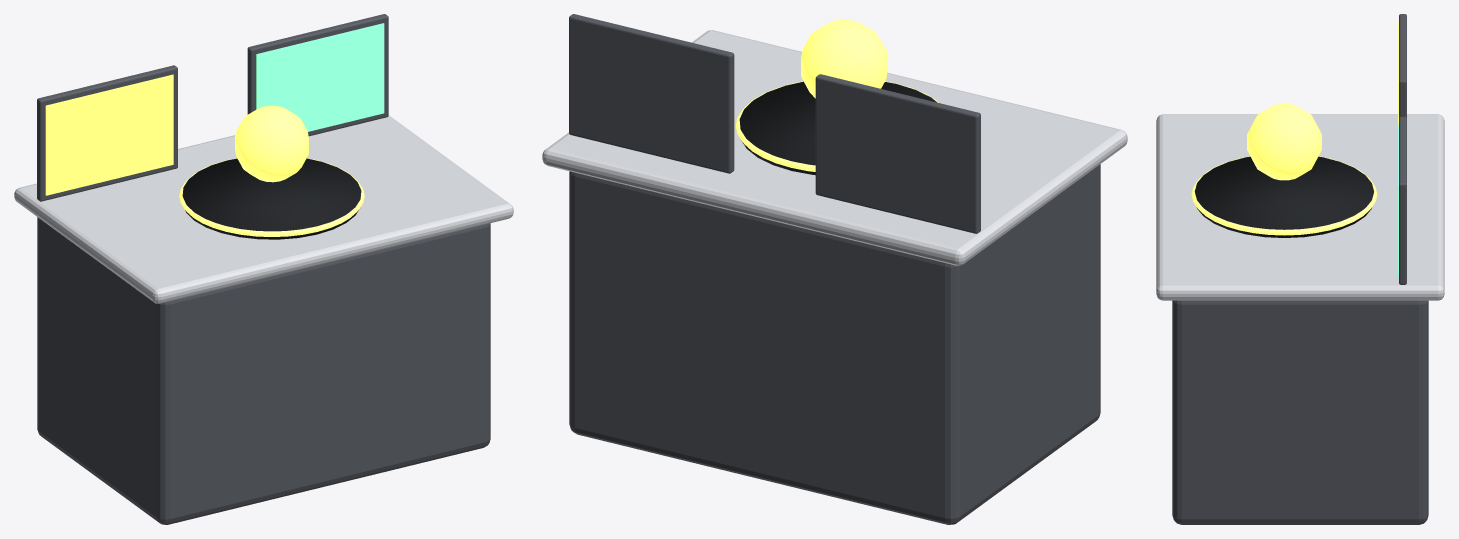
Rendered from command_console_nav_station.glb.
3 renders of one model, left to right at view 1: azimuth 30°, elevation 25°; view 2: azimuth 150°, elevation 25°; view 3: azimuth 270°, elevation 25°, orthographic. The views are drawn at different scales.
Parts seen in each view (by area): view 1: GD_command_console_nav_station__m0, GD_command_console_nav_station__m1, GD_command_console_nav_station__m4, GD_command_console_nav_station__m5, GD_command_console_nav_station__m2, GD_command_console_nav_station__m3; view 2: GD_command_console_nav_station__m0, GD_command_console_nav_station__m1, GD_command_console_nav_station__m3, GD_command_console_nav_station__m2; view 3: GD_command_console_nav_station__m0, GD_command_console_nav_station__m1, GD_command_console_nav_station__m2, GD_command_console_nav_station__m3.
Part boxes in pixels (left/top/right/bottom): GD_command_console_nav_station__m0: left=37, top=14, right=490, bottom=524; GD_command_console_nav_station__m1: left=14, top=115, right=513, bottom=303; GD_command_console_nav_station__m4: left=45, top=74, right=173, bottom=195; GD_command_console_nav_station__m5: left=256, top=23, right=384, bottom=131; GD_command_console_nav_station__m2: left=182, top=158, right=361, bottom=239; GD_command_console_nav_station__m3: left=179, top=105, right=364, bottom=236; GD_command_console_nav_station__m0: left=569, top=14, right=1100, bottom=524; GD_command_console_nav_station__m1: left=542, top=30, right=1127, bottom=265; GD_command_console_nav_station__m3: left=735, top=19, right=938, bottom=171; GD_command_console_nav_station__m2: left=739, top=81, right=936, bottom=175; GD_command_console_nav_station__m0: left=1172, top=14, right=1428, bottom=524; GD_command_console_nav_station__m1: left=1156, top=114, right=1444, bottom=300; GD_command_console_nav_station__m2: left=1194, top=156, right=1373, bottom=237; GD_command_console_nav_station__m3: left=1191, top=104, right=1377, bottom=235.
Bounding box in the file's own units: 1.3 × 1.2 × 0.9.
